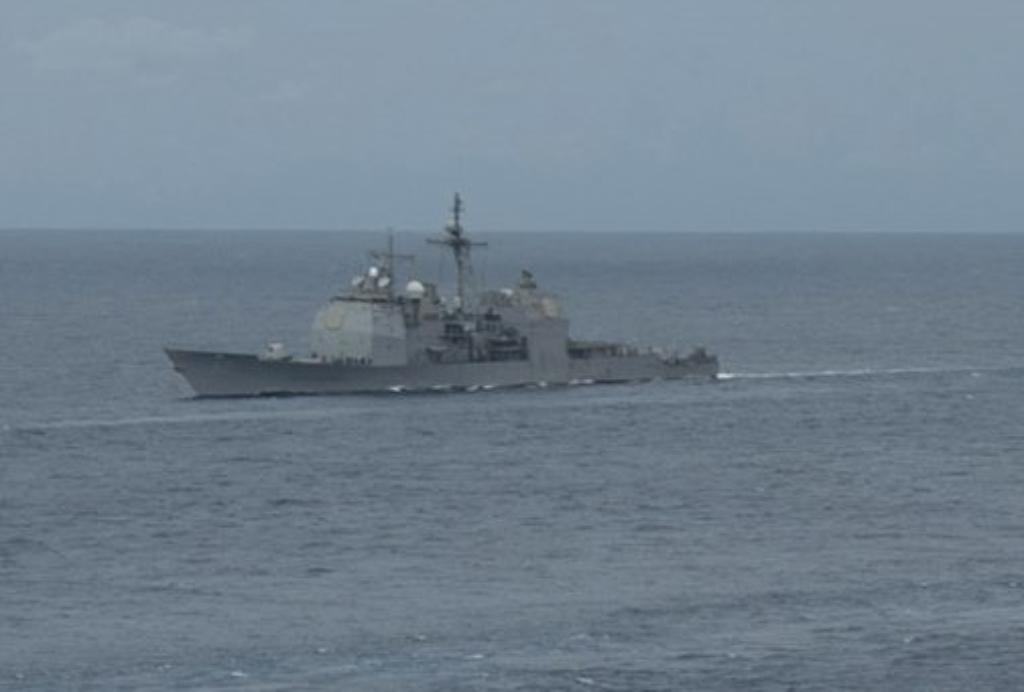Warship: (157, 192, 721, 400)
